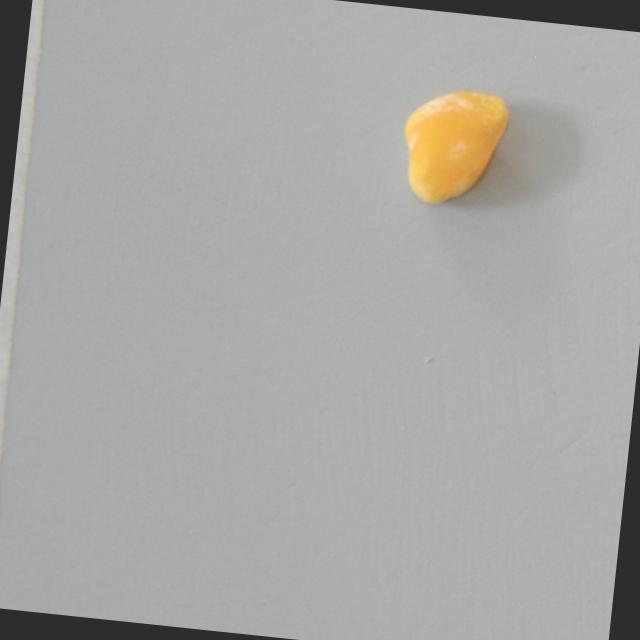pelicula: (397, 82, 513, 214)
